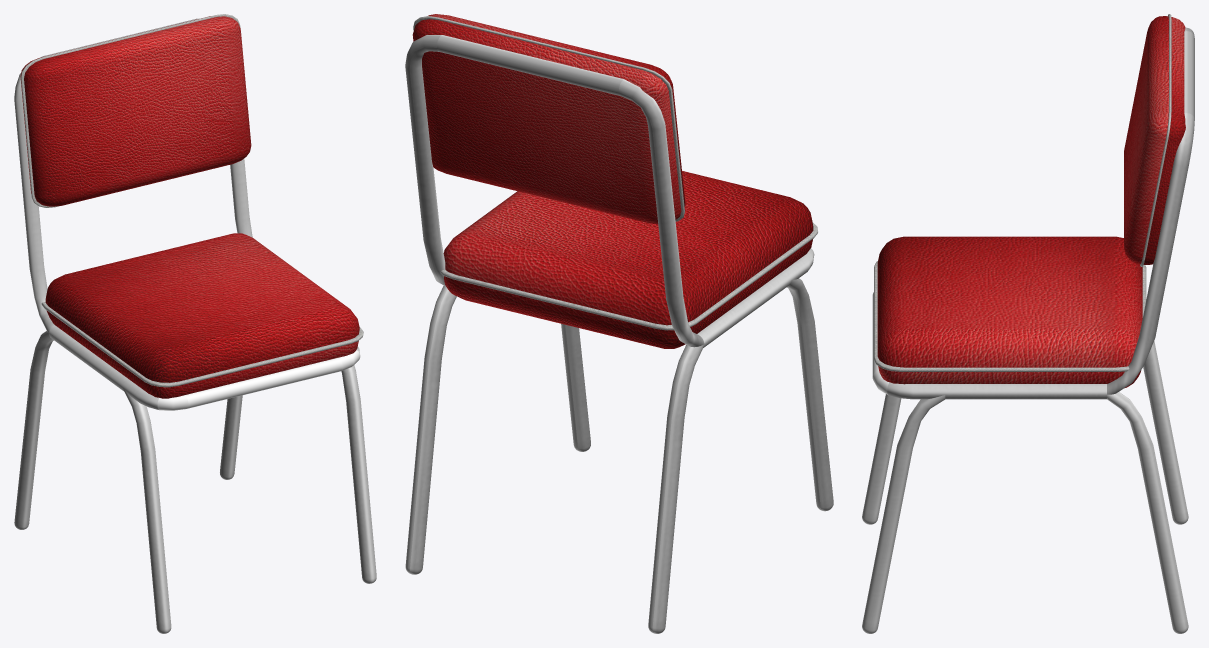
Rendered from stoel We are cooked 1.fbx.
The picture shows the model from 3 angles, left to right: view 1: azimuth 30°, elevation 25°; view 2: azimuth 150°, elevation 25°; view 3: azimuth 270°, elevation 25°; orthographic projection. The views are drawn at different scales.
Parts seen in each view (by area): view 1: zitting, leuning, buizen zitting; view 2: zitting, leuning, buizen zitting; view 3: zitting, buizen zitting, leuning.
Boxes of the visible parts, bbox=[...] form: zitting: bbox=[41, 233, 363, 398]; leuning: bbox=[20, 14, 251, 207]; buizen zitting: bbox=[14, 18, 376, 633]; zitting: bbox=[440, 171, 817, 348]; leuning: bbox=[412, 14, 685, 224]; buizen zitting: bbox=[405, 35, 833, 633]; zitting: bbox=[874, 236, 1146, 388]; buizen zitting: bbox=[862, 27, 1194, 633]; leuning: bbox=[1124, 14, 1185, 266].
Size of the model in its own units: 42.62 by 87.68 by 51.45.
